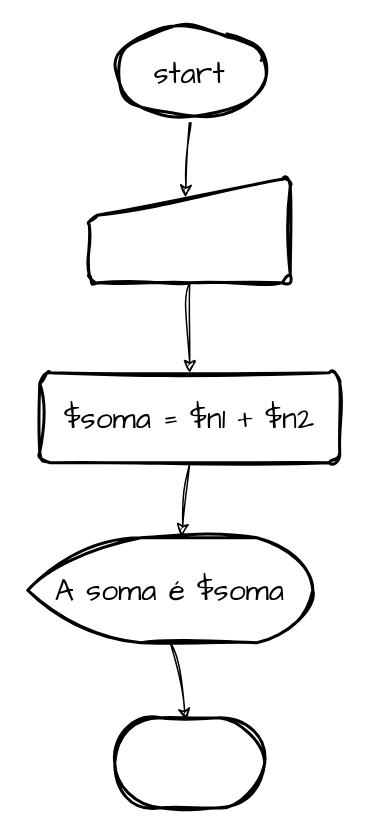
Some shapes in this 366 by 834 pixel diagram are drawn without their labels. Here are the shapes that lost their labels. From the top down, the centre of each, then its label:
At (x=189, y=230): "$n1, $n2".
At (x=189, y=762): "end".
